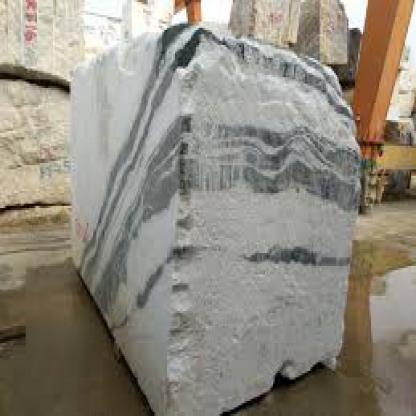Metamorphic_Marble: (63, 17, 363, 408)
